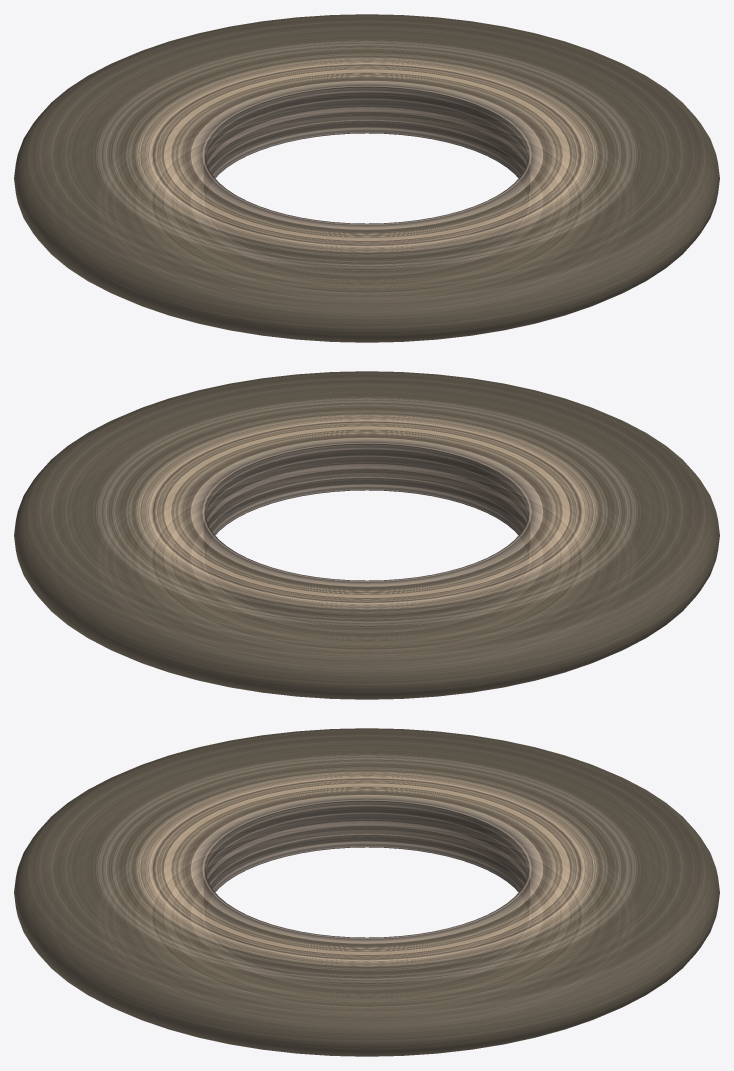
Rendered from Ring.obj.
3 views of the same model, one above another, from view 1: azimuth 30°, elevation 25°; view 2: azimuth 150°, elevation 25°; view 3: azimuth 270°, elevation 25° (orthographic).
Bounding box in the file's own units: 5.4 × 0.4 × 5.4.
Materials: 1 (1 with a texture image).
